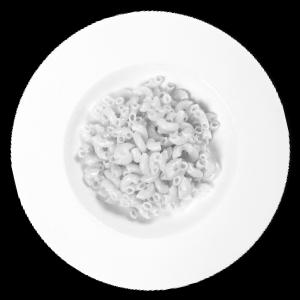pasta: (60, 56, 235, 236)
